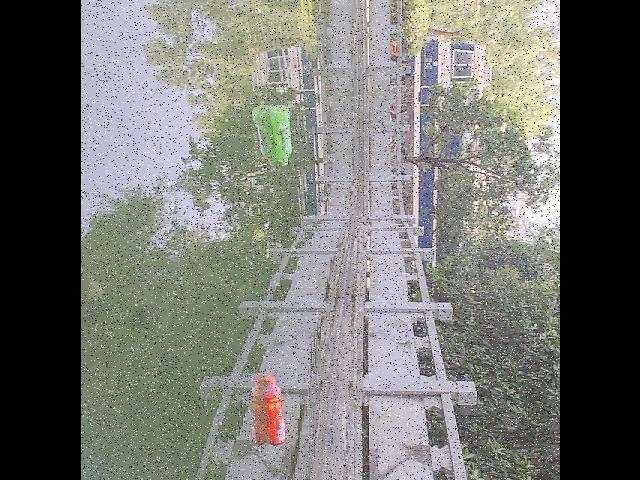Bottle: (248, 360, 298, 452), (250, 96, 300, 177)
